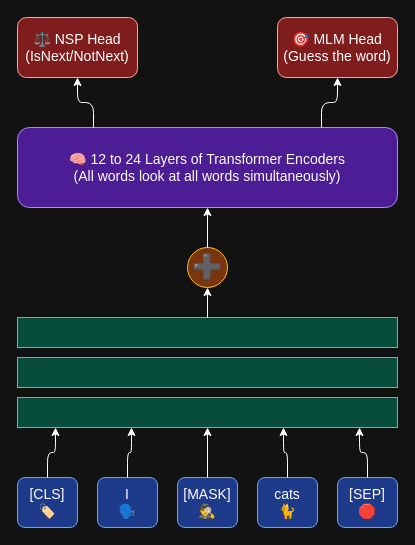
The diagram is 415 pixels wide and 545 high, and some of its shapes have lost their labels. Each missing label, with the centre of its shape:
"📍 Position Embedding" belongs at pixel 207 332.
"📚 Token Embedding" belongs at pixel 207 412.
"🖍️ Segment Embedding" belongs at pixel 207 372.
